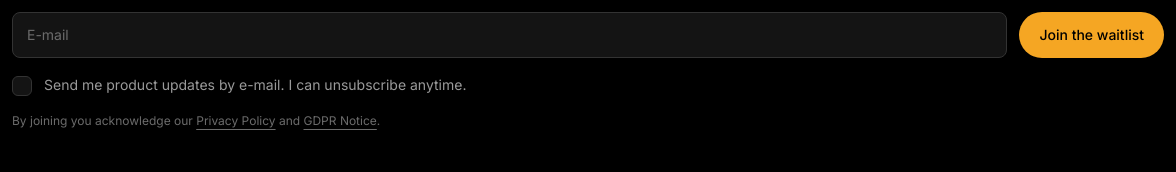
Scenario: Checkboxes › use the custom checkbox style and toggle from the whole label row
Click the text "Send me product updates". click: (255, 85)
box: [44, 74, 466, 97]
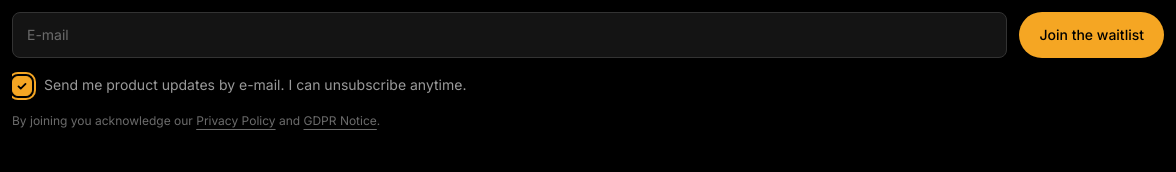
Expected: the checkbox is checked, [12, 76, 32, 96]
